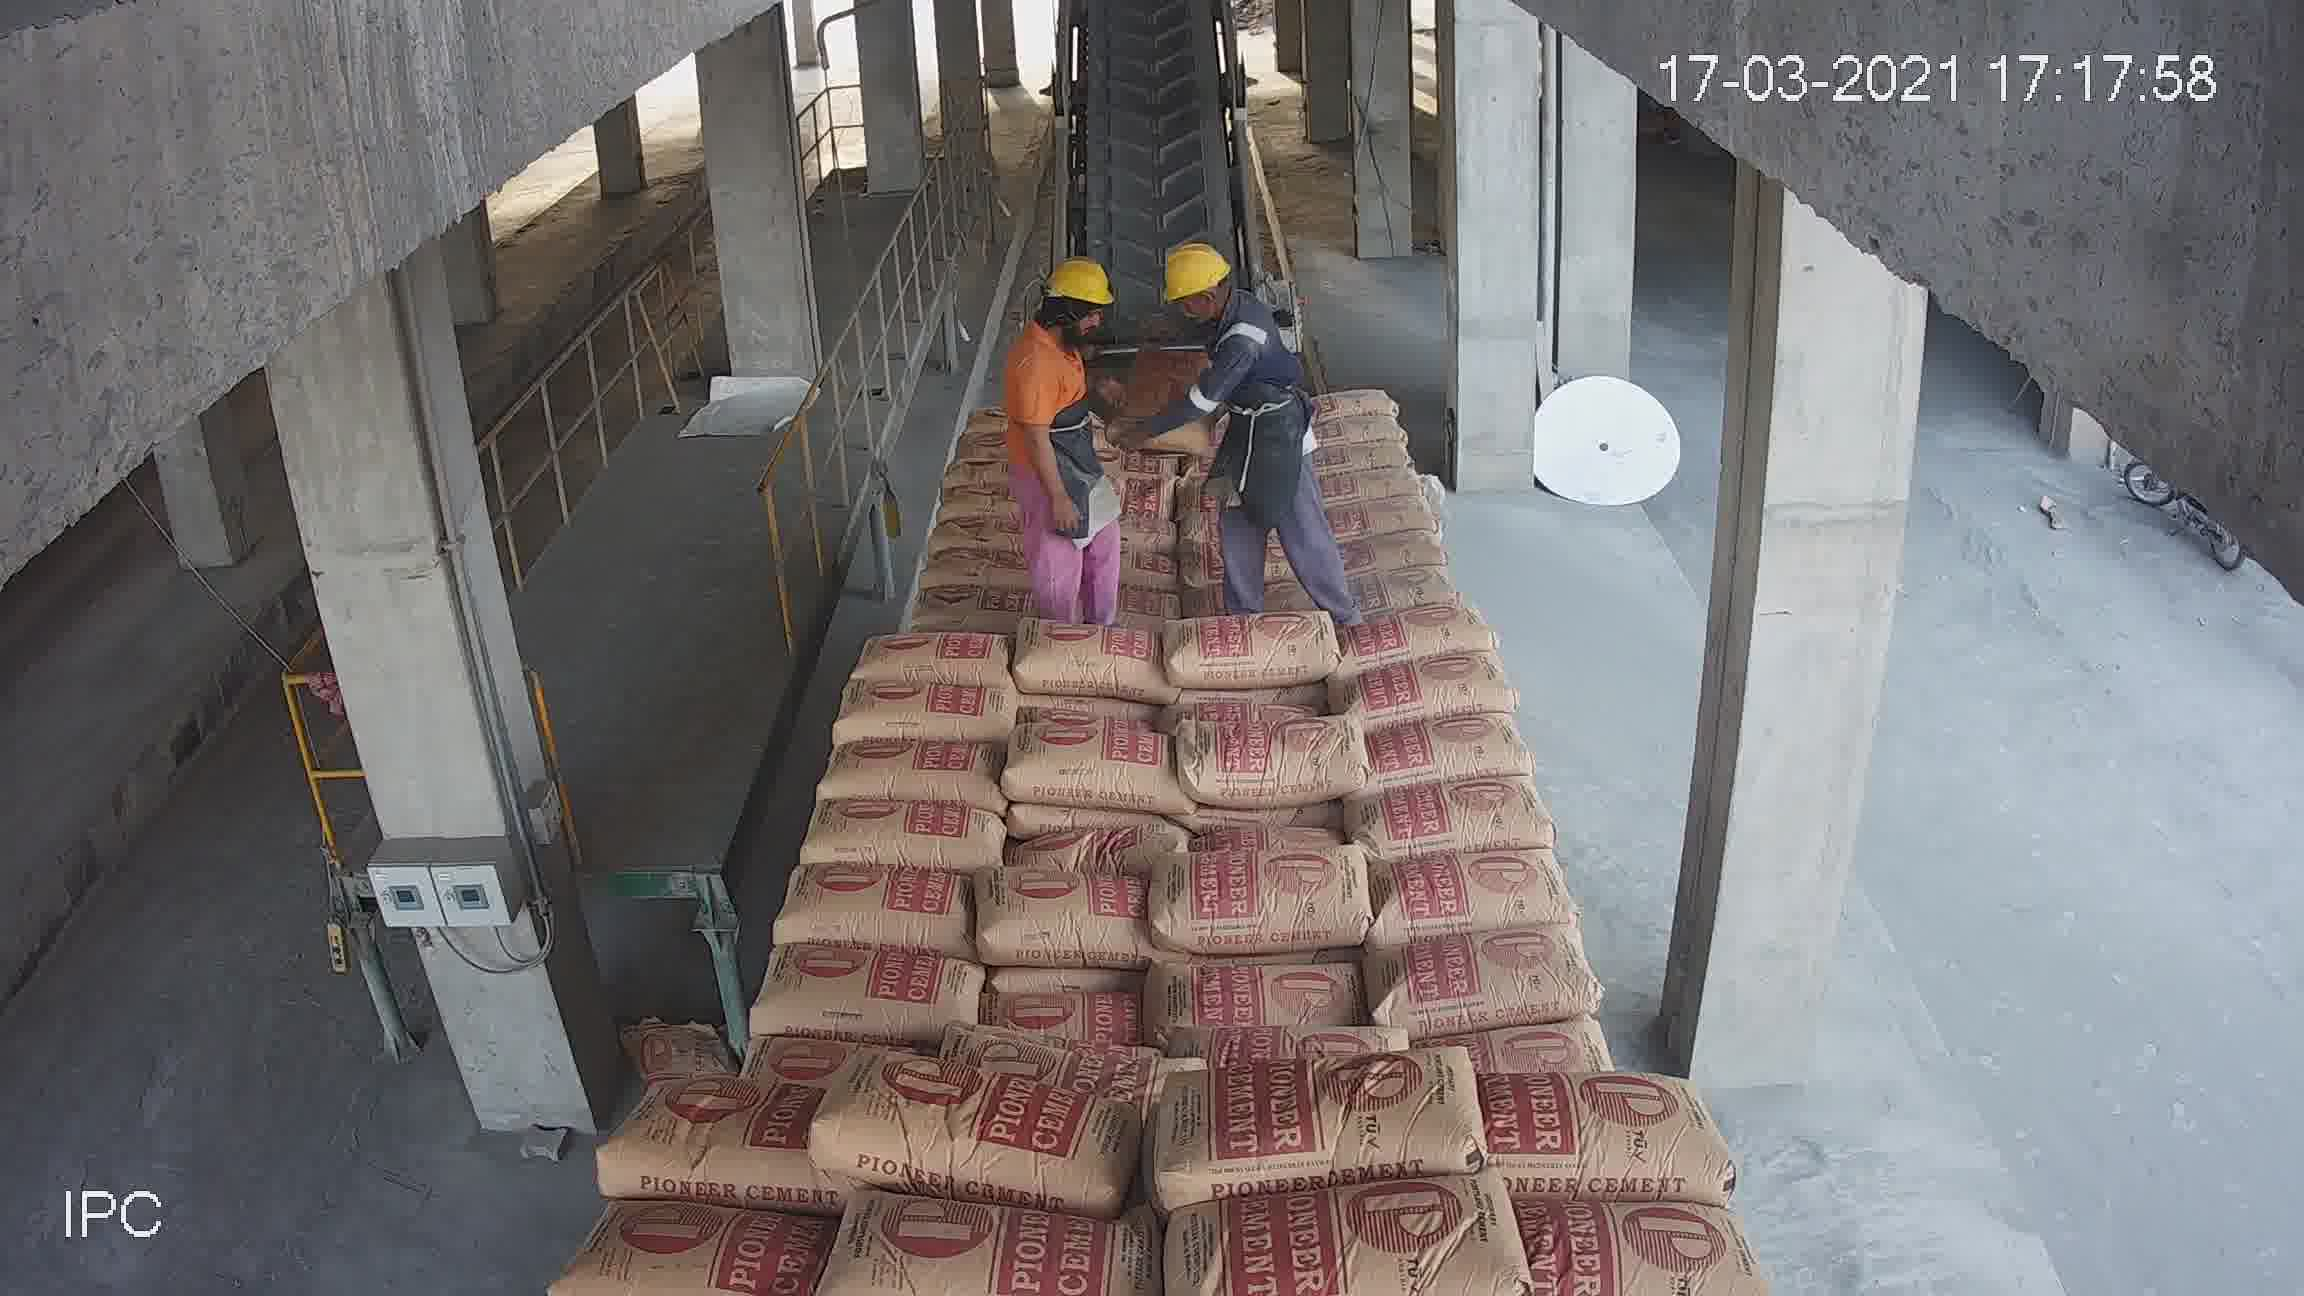bag_h: (1152, 1036, 1492, 1190), (801, 1059, 1127, 1204), (812, 1182, 1192, 1294), (1174, 1185, 1516, 1291), (597, 1082, 824, 1214), (1470, 1076, 1715, 1198), (1494, 1176, 1752, 1290), (552, 1203, 850, 1296), (1370, 919, 1601, 1032), (747, 943, 997, 1046), (1165, 839, 1383, 956), (1362, 847, 1579, 946), (775, 853, 980, 957), (1173, 707, 1367, 812), (968, 870, 1165, 972), (1149, 962, 1366, 1046), (1350, 771, 1551, 859), (1000, 715, 1192, 805), (804, 794, 1008, 873), (949, 1025, 1188, 1092), (1166, 609, 1340, 696), (817, 733, 1014, 809), (1351, 711, 1533, 791), (1008, 820, 1193, 894), (1332, 654, 1518, 725), (1332, 598, 1499, 671), (1014, 622, 1166, 699), (989, 972, 1150, 1044), (837, 682, 1010, 748), (1435, 1027, 1616, 1086), (859, 627, 1014, 688), (1320, 483, 1431, 541), (900, 510, 1033, 557), (1336, 554, 1446, 608), (919, 548, 1036, 597), (1298, 460, 1416, 506), (915, 584, 1024, 622), (923, 483, 1029, 519), (1332, 540, 1454, 571), (1313, 383, 1402, 426), (935, 448, 1014, 495), (1312, 435, 1415, 472), (1312, 411, 1407, 446)
bag_v: (1106, 343, 1214, 446)
belt: (1029, 14, 1277, 434)
